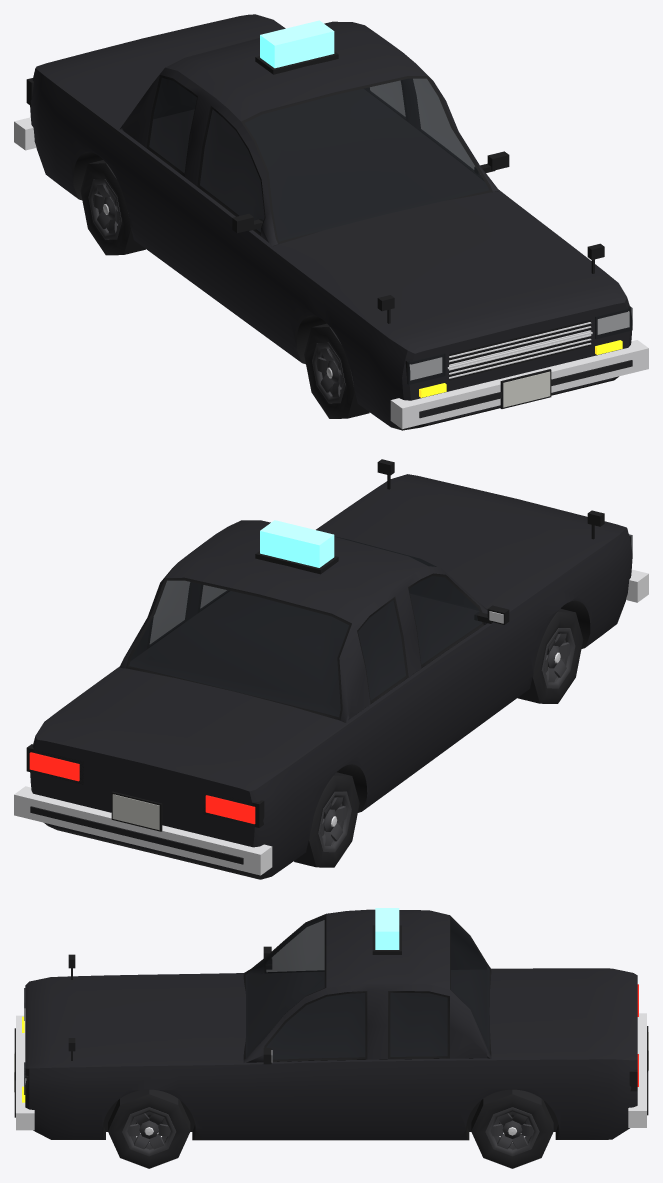
Rendered from taxi_lod3.glb.
3 views of the same model, one above another, from view 1: azimuth 30°, elevation 25°; view 2: azimuth 150°, elevation 25°; view 3: azimuth 270°, elevation 25° (orthographic). The views are drawn at different scales.
Parts seen in each view (by area): view 1: body, wheel_FL, wheel_RL; view 2: body, wheel_RL, wheel_FL; view 3: body, wheel_RR, wheel_FR.
Boxes of the visible parts, x1=… form: body: x1=14, y1=14, x2=648, y2=430; wheel_FL: x1=304, y1=323, x2=369, y2=418; wheel_RL: x1=80, y1=160, x2=145, y2=255; body: x1=14, y1=459, x2=648, y2=879; wheel_RL: x1=294, y1=772, x2=359, y2=867; wheel_FL: x1=518, y1=608, x2=583, y2=703; body: x1=14, y1=908, x2=648, y2=1140; wheel_RR: x1=471, y1=1089, x2=553, y2=1168; wheel_FR: x1=108, y1=1089, x2=190, y2=1168.
Size of the model in its own units: 1.92 by 1.69 by 4.77.
